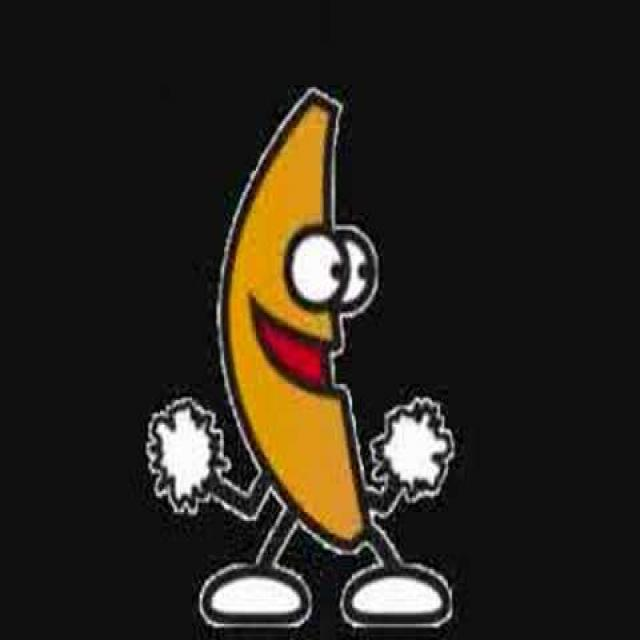banana: (198, 79, 424, 571)
